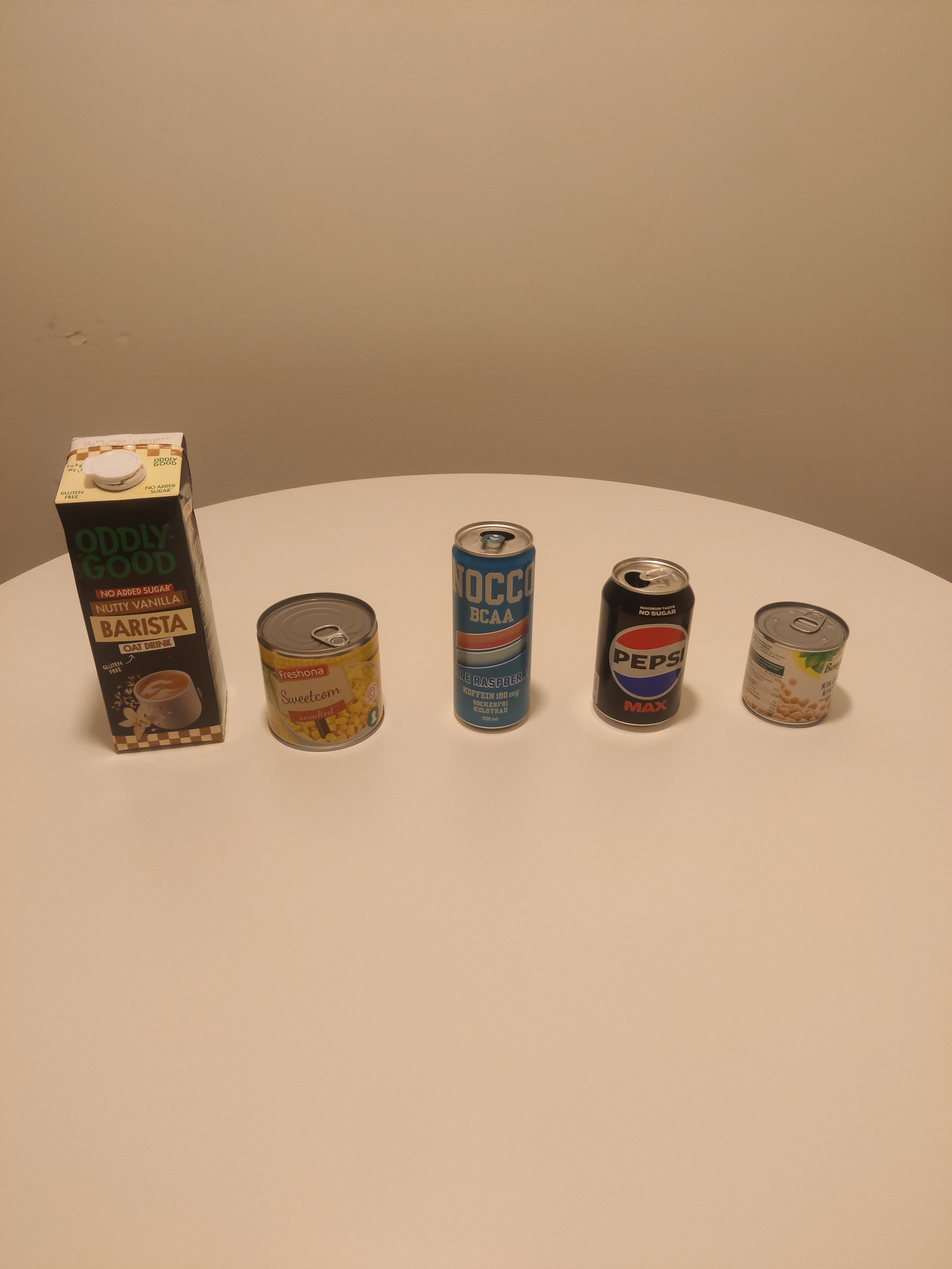Dryckeskartong: (33, 413, 257, 821)
Konservburk: (238, 572, 413, 781), (737, 567, 858, 767)
Pantburk: (406, 471, 574, 784), (587, 516, 716, 782)
